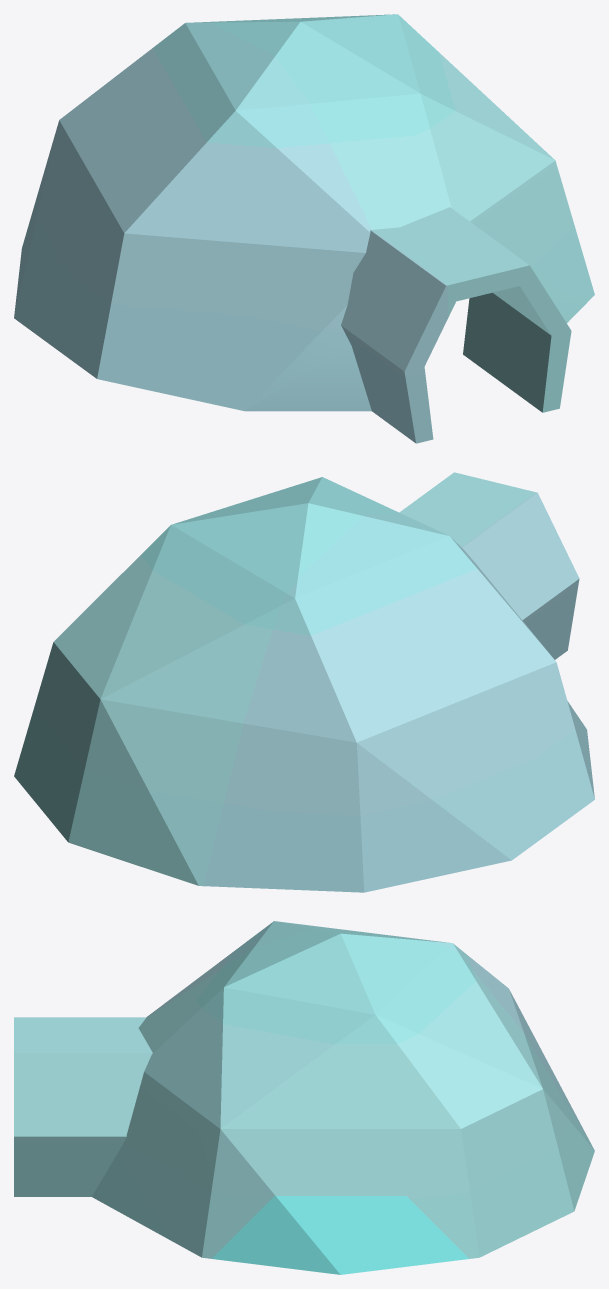
The model's file is Igloo.fbx.
3 views of the same model, one above another, from view 1: azimuth 30°, elevation 25°; view 2: azimuth 150°, elevation 25°; view 3: azimuth 270°, elevation 25° (orthographic). The views are drawn at different scales.
Visible parts, largest first — view 1: Igloo; view 2: Igloo; view 3: Igloo.
Boxes of the visible parts, x1,y1,x2,y2 form: Igloo: (14,14,594,443); Igloo: (14,472,594,892); Igloo: (14,921,594,1274).
Bounding box in the file's own units: 4.85 × 2.5 × 5.6.
